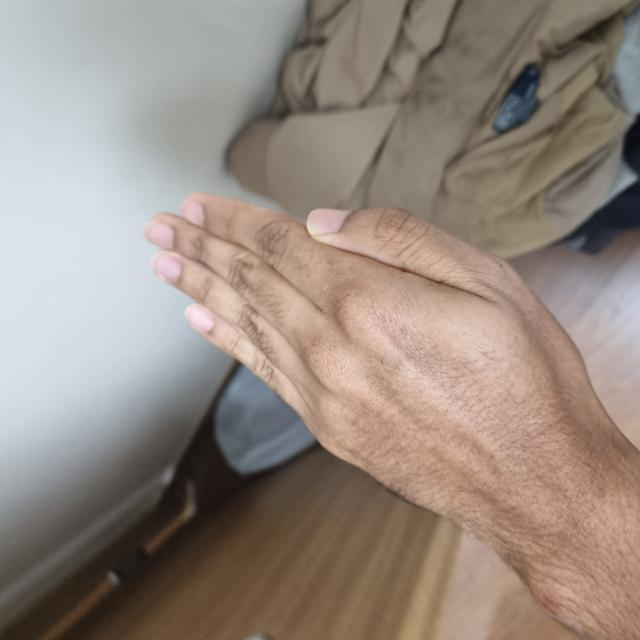Paper: (112, 143, 447, 592)
